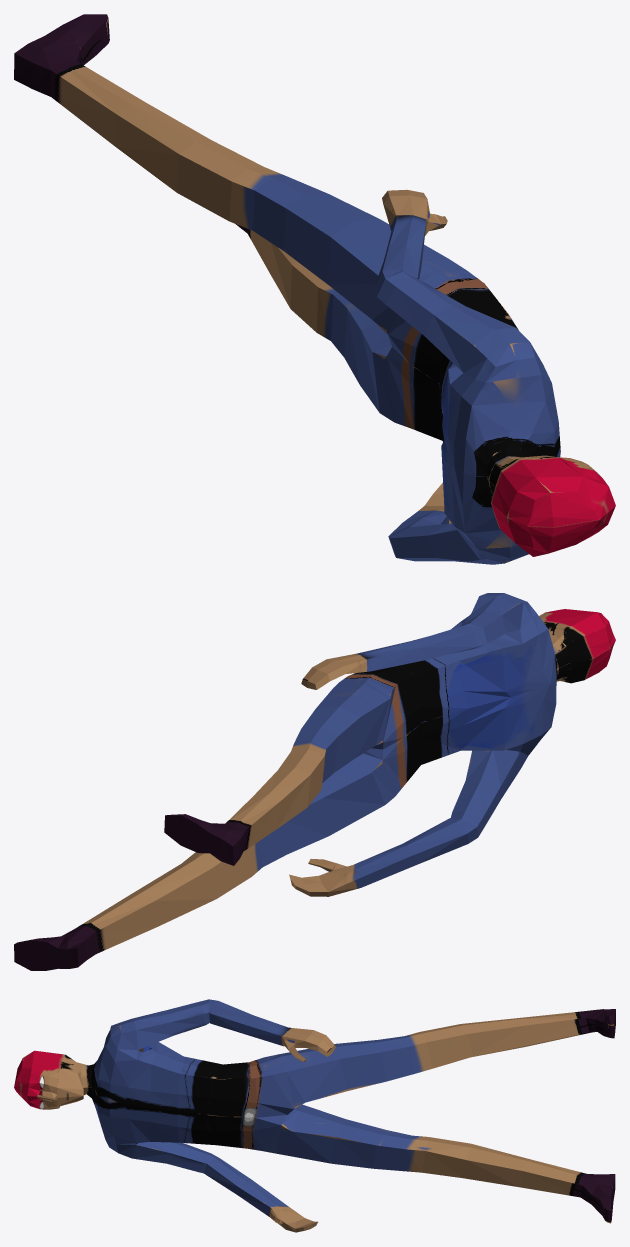
Rendered from mirrorman_000012.obj.
3 views of the same model, one above another, from view 1: azimuth 30°, elevation 25°; view 2: azimuth 150°, elevation 25°; view 3: azimuth 270°, elevation 25° (orthographic). The views are drawn at different scales.
Visible parts, largest first — view 1: mirrorman_Cube.001_Material.001; view 2: mirrorman_Cube.001_Material.001; view 3: mirrorman_Cube.001_Material.001.
Boxes of the visible parts, box(x1,y1,x2,y2) form: mirrorman_Cube.001_Material.001: box(14, 14, 615, 564); mirrorman_Cube.001_Material.001: box(14, 593, 615, 970); mirrorman_Cube.001_Material.001: box(14, 999, 615, 1232).
Bounding box in the file's own units: 0.6136 × 0.6519 × 1.86.
Materials: 1 (1 with a texture image).
